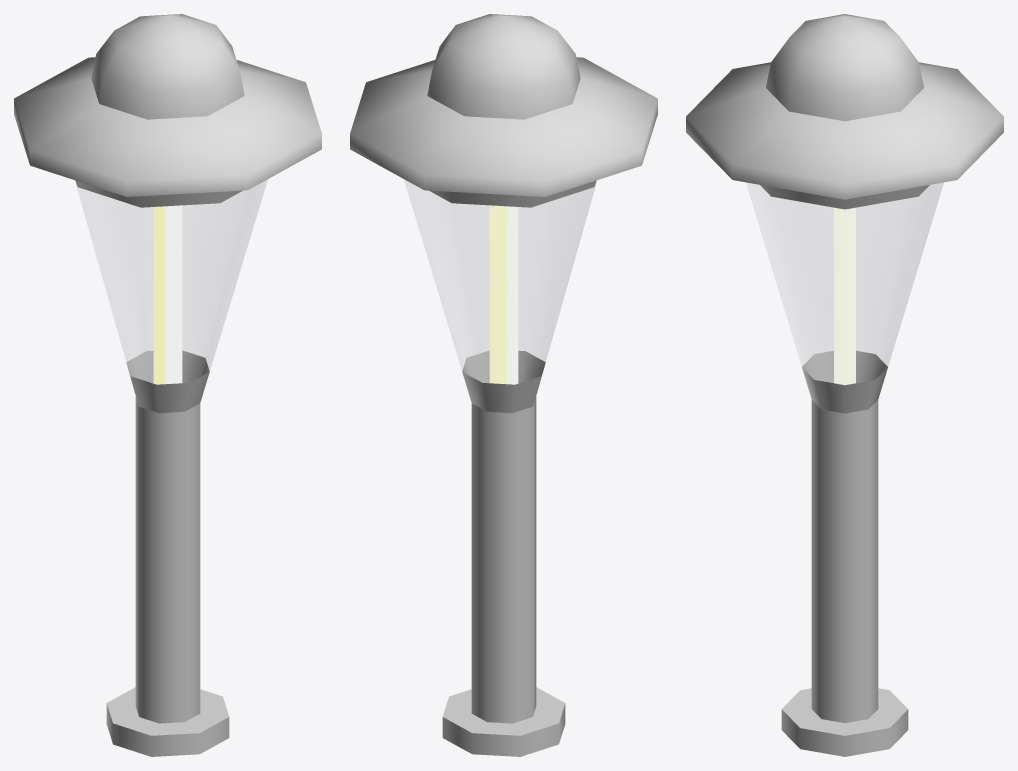
Rendered from LightStick.glb.
The picture shows the model from 3 angles, left to right: view 1: azimuth 30°, elevation 25°; view 2: azimuth 150°, elevation 25°; view 3: azimuth 270°, elevation 25°; orthographic projection.
Parts seen in each view (by area): view 1: LightStick; view 2: LightStick; view 3: LightStick.
Boxes of the visible parts, x1,y1,x2,y2 form: LightStick: [14, 14, 321, 756]; LightStick: [350, 14, 657, 756]; LightStick: [686, 14, 1003, 756].
Size of what is drawn, in the model's own units: 0.3646 by 0.903 by 0.3646.
